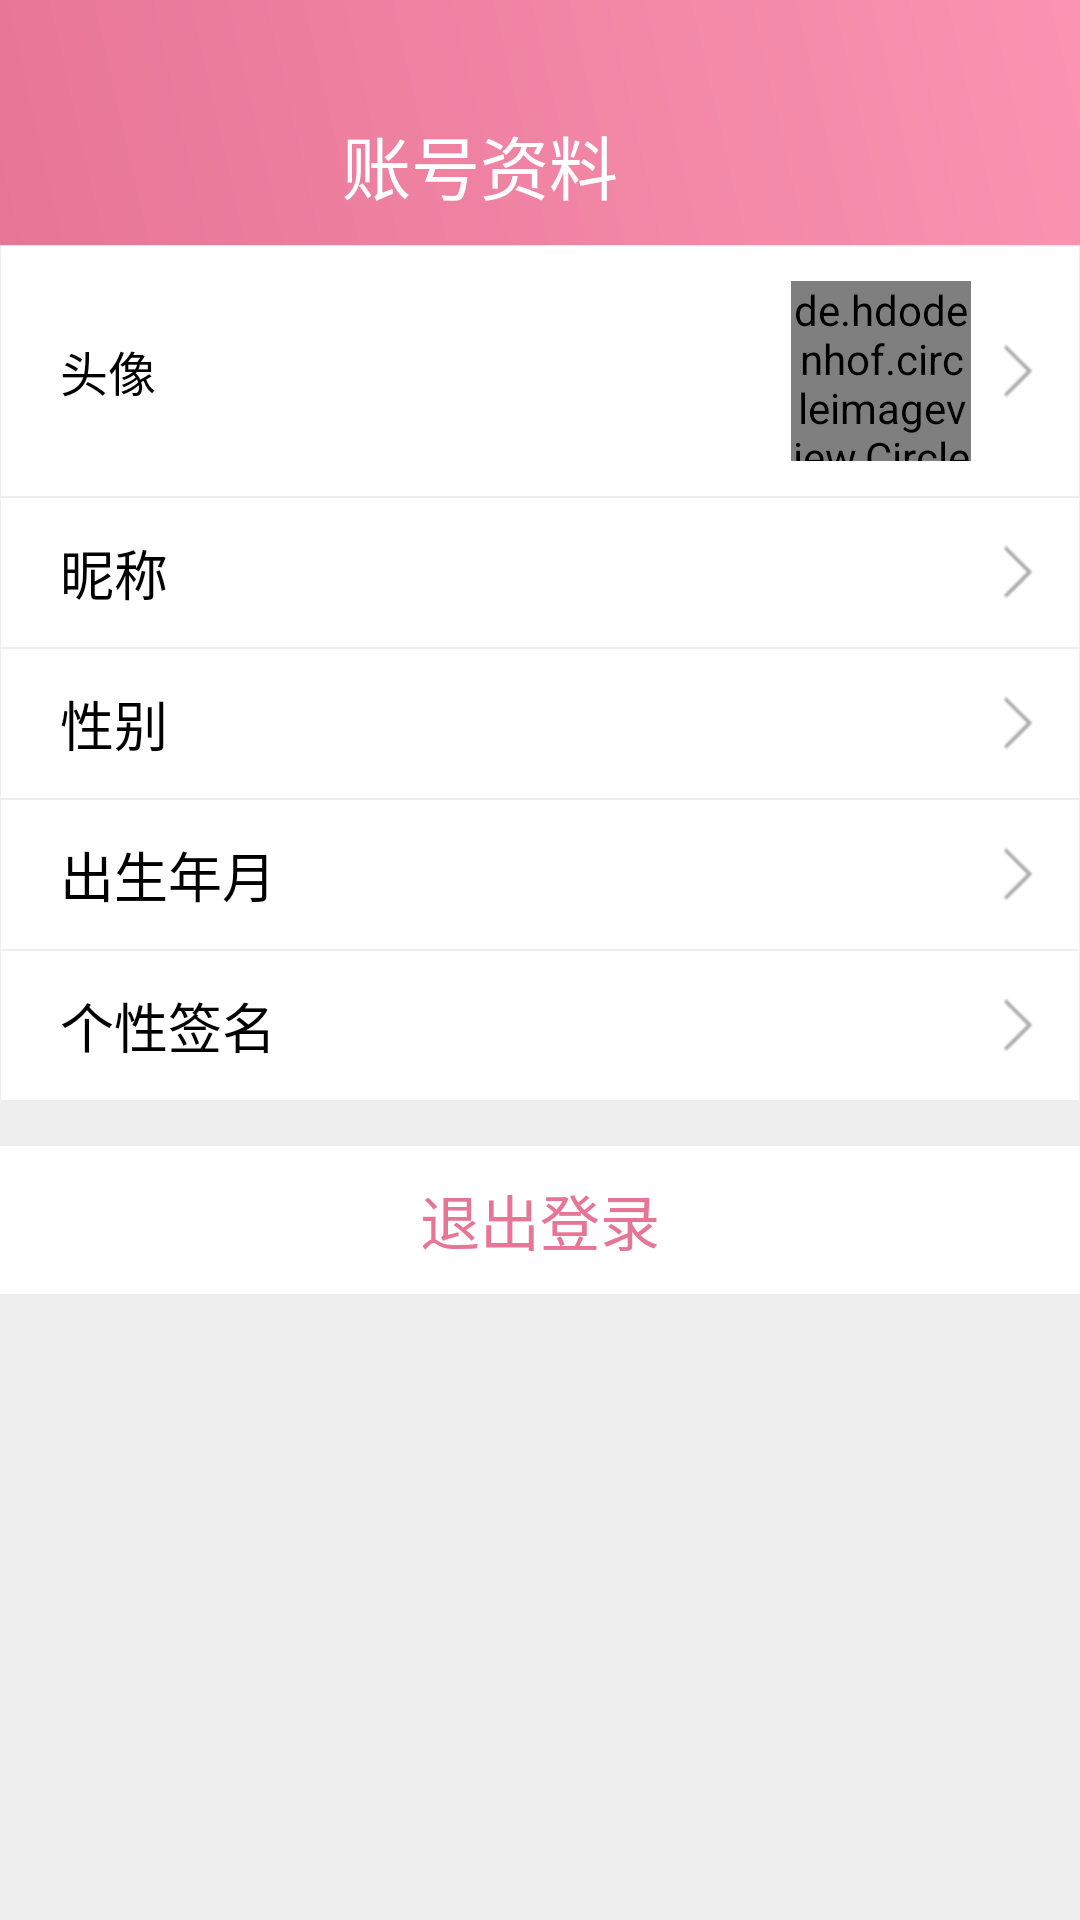

Where icons sit on this 1080×1920 app screen, as (x1, y1, x2, y2):
rightarrow: (1004, 345, 1032, 397), (1004, 546, 1032, 598), (1004, 697, 1032, 749), (1004, 848, 1032, 900), (1004, 999, 1032, 1051)
